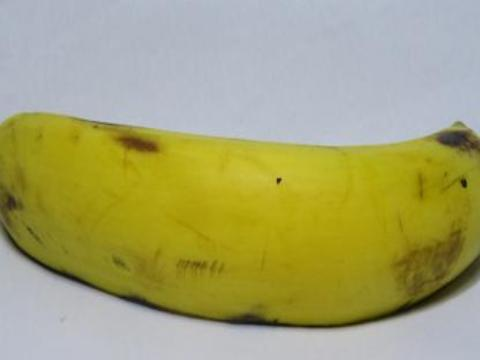freshripe: (0, 80, 479, 346)
